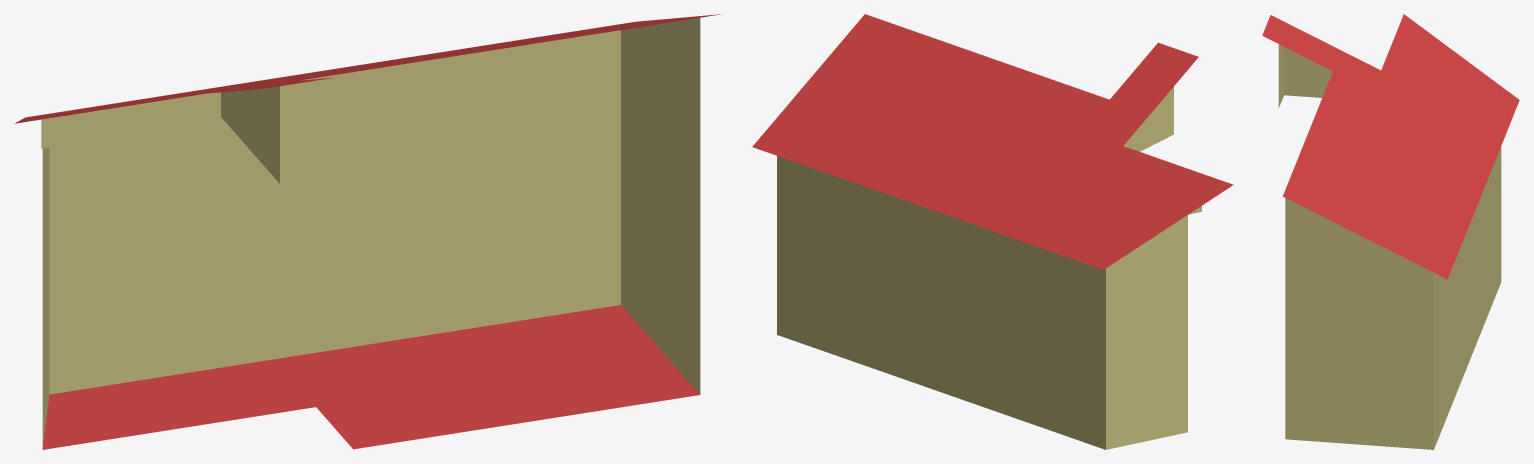
3 renders of one model, left to right at view 1: azimuth 30°, elevation 25°; view 2: azimuth 150°, elevation 25°; view 3: azimuth 270°, elevation 25°, orthographic. The views are drawn at different scales.
Size of the model in its own units: 14.98 by 7.71 by 9.26.
